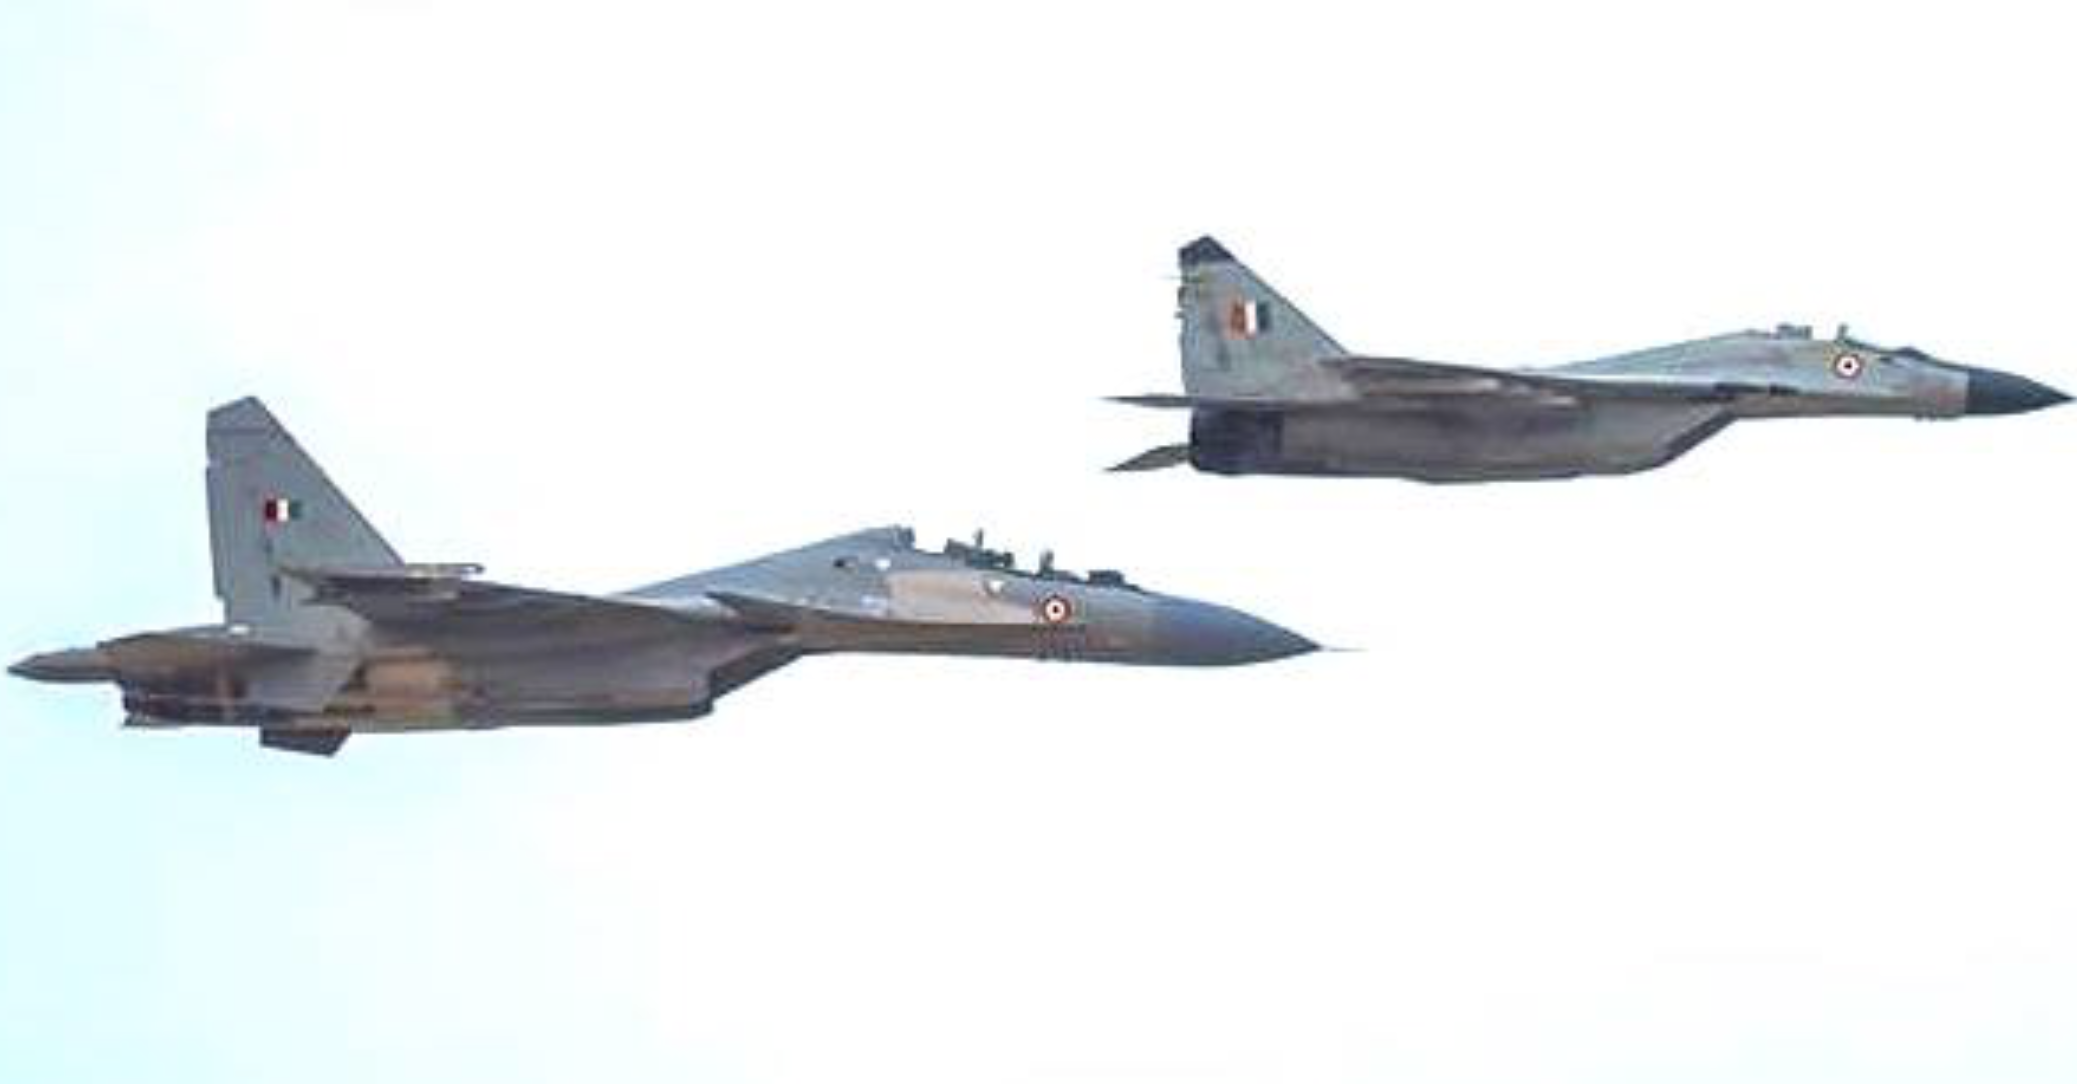Mig-29: (1111, 207, 2077, 541)
Su-30: (54, 334, 1383, 820)
